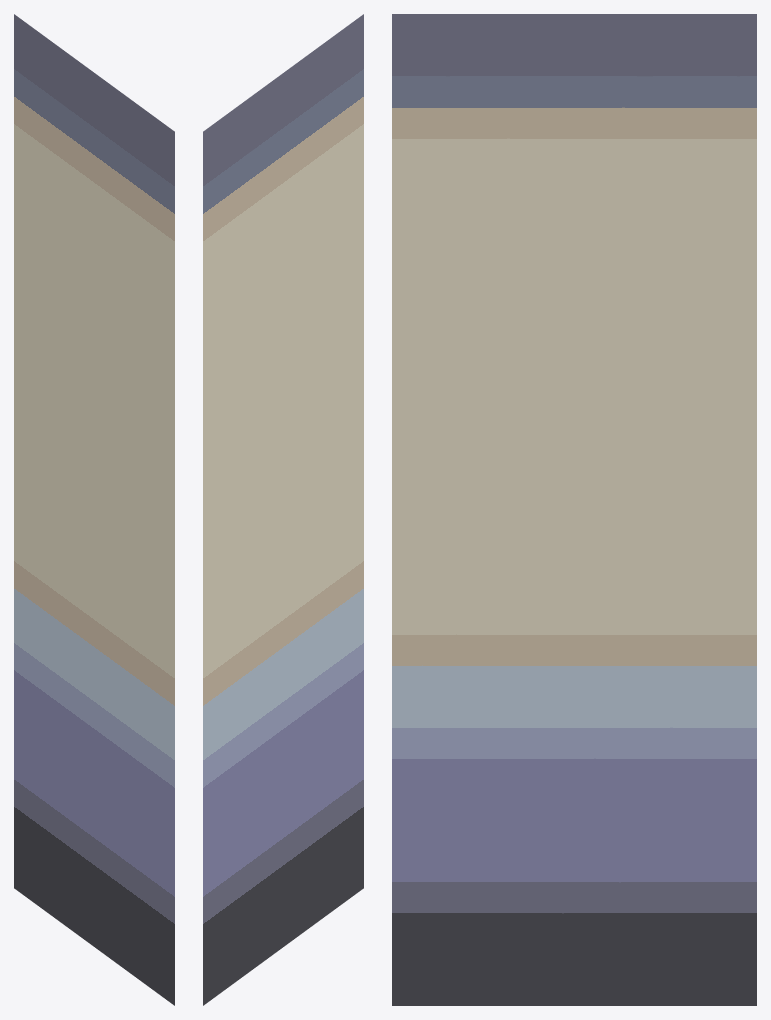
3 views of the same model, side by side, from view 1: azimuth 30°, elevation 25°; view 2: azimuth 150°, elevation 25°; view 3: azimuth 270°, elevation 25° (orthographic). The views are drawn at different scales.
Size of the model in its own units: 0 by 3 by 1.
Materials: 1 (1 with a texture image).
